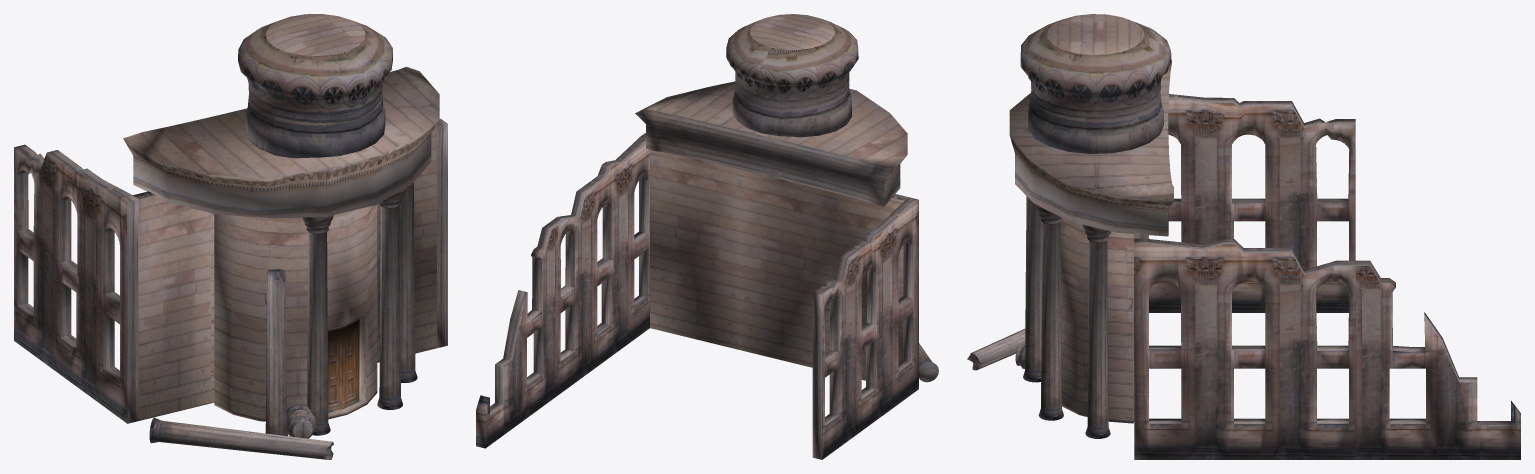
File: war_torn17.obj
3 views of the same model, side by side, from view 1: azimuth 30°, elevation 25°; view 2: azimuth 150°, elevation 25°; view 3: azimuth 270°, elevation 25° (orthographic). The views are drawn at different scales.
Visible parts, largest first — view 1: worn_torn17; view 2: worn_torn17; view 3: worn_torn17.
Part boxes in pixels (x1=…): worn_torn17: x1=14, y1=14, x2=447, y2=459; worn_torn17: x1=476, y1=14, x2=938, y2=459; worn_torn17: x1=967, y1=14, x2=1520, y2=459.
Size of the model in its own units: 669 by 744 by 1025.
Materials: 1 (1 with a texture image).
